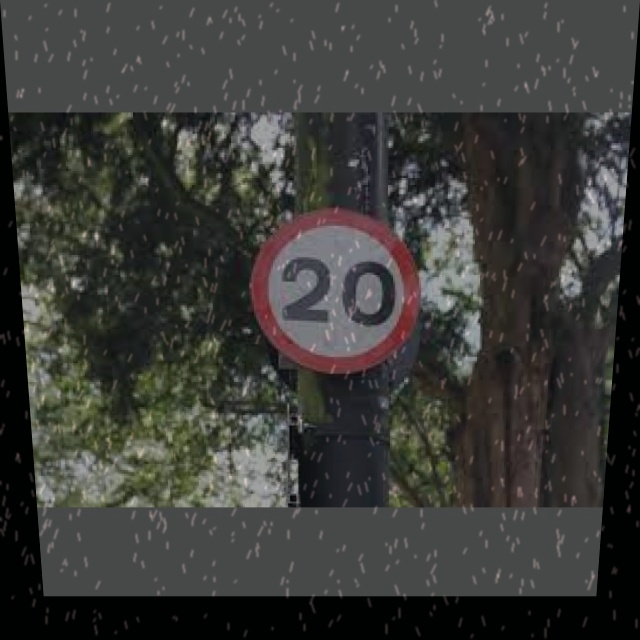Speed_Limit_20: (246, 210, 427, 373)
